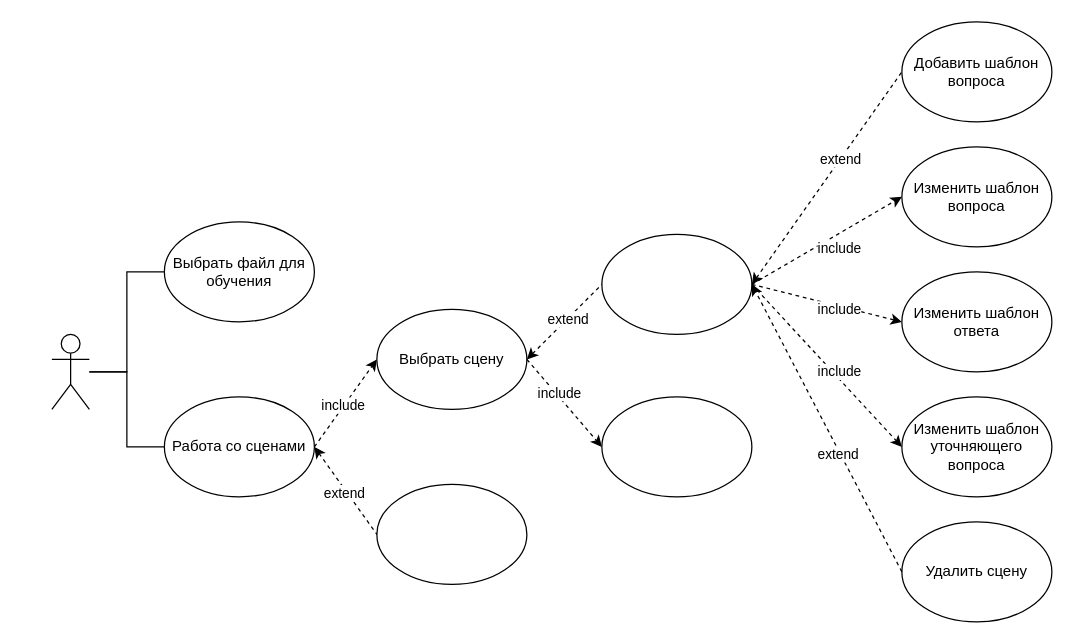
The diagram is 1074 pixels wide and 644 high, and some of its shapes have lost their labels. Each missing label, with the box of its shape:
Вывести информацию о сцене: (601, 396, 752, 497)
Добавить сцену: (376, 483, 527, 584)
Изменить сцену: (601, 233, 752, 334)
Пользователь: (51, 333, 89, 409)
